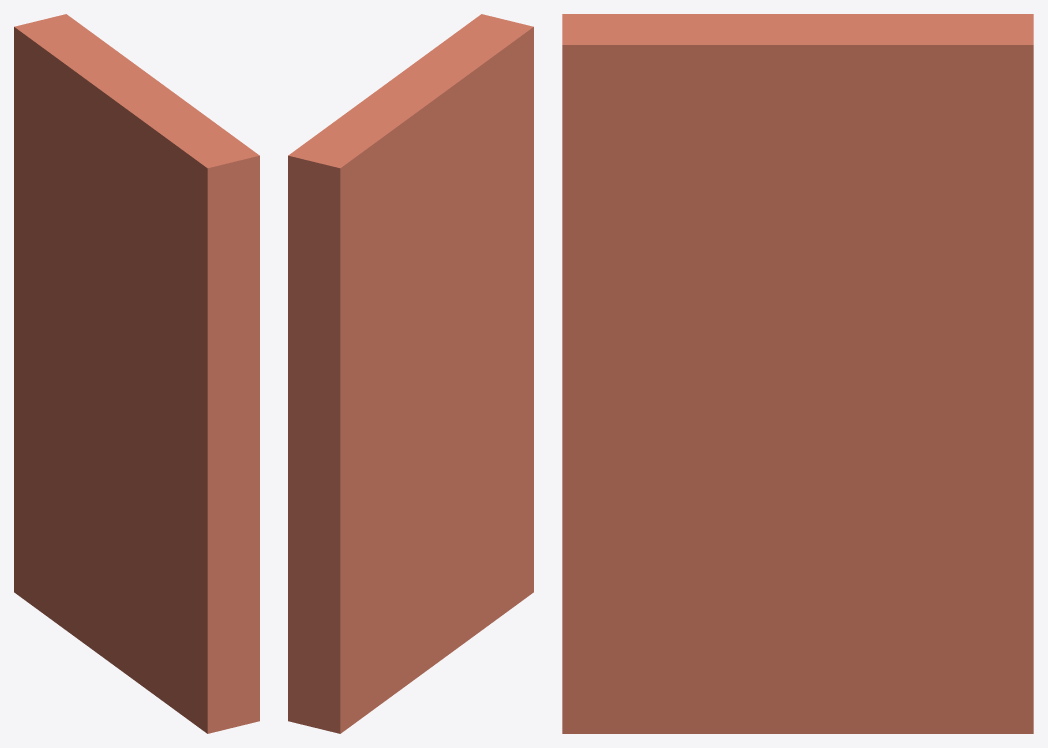
The model's file is puerta1.fbx.
3 renders of one model, left to right at view 1: azimuth 30°, elevation 25°; view 2: azimuth 150°, elevation 25°; view 3: azimuth 270°, elevation 25°, orthographic. The views are drawn at different scales.
Visible parts, largest first — view 1: Cube.001; view 2: Cube.001; view 3: Cube.001.
Boxes of the visible parts, left/top/right/bottom form: Cube.001: left=14, top=14, right=259, bottom=733; Cube.001: left=288, top=14, right=533, bottom=733; Cube.001: left=562, top=14, right=1033, bottom=733.
Bounding box in the file's own units: 17.04 × 176 × 109.
